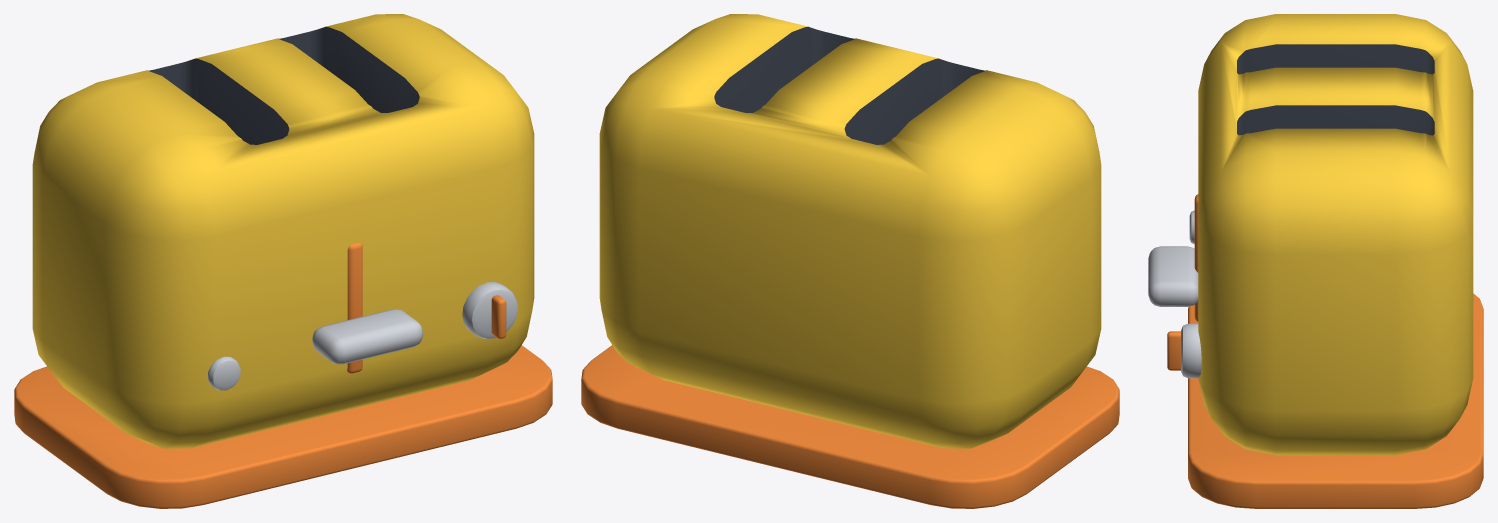
The model's file is torradeira_amarela.glb.
3 views of the same model, side by side, from view 1: azimuth 30°, elevation 25°; view 2: azimuth 150°, elevation 25°; view 3: azimuth 270°, elevation 25° (orthographic). The views are drawn at different scales.
Visible parts, largest first — view 1: torradeira_amarela; view 2: torradeira_amarela; view 3: torradeira_amarela.
Boxes of the visible parts, bbox=[...] form: torradeira_amarela: bbox=[14, 14, 552, 508]; torradeira_amarela: bbox=[581, 14, 1119, 508]; torradeira_amarela: bbox=[1148, 14, 1483, 508].
Bounding box in the file's own units: 0.282 × 0.206 × 0.195.
1 material, 1 textured.
